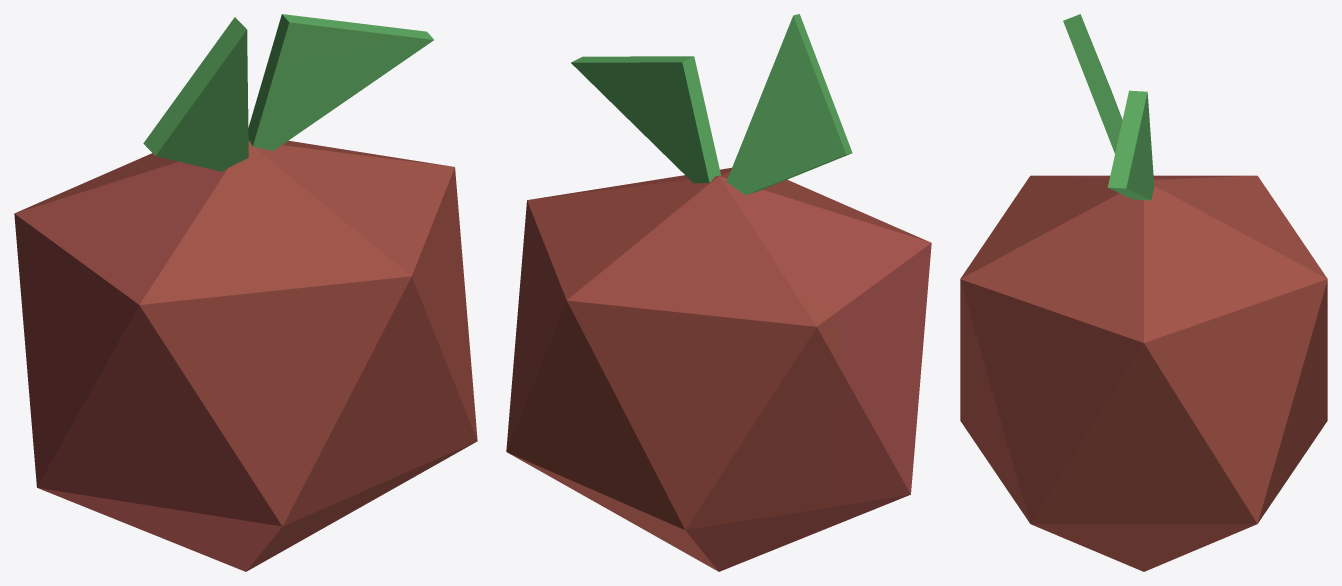
Rendered from Apple.glb.
The picture shows the model from 3 angles, left to right: view 1: azimuth 30°, elevation 25°; view 2: azimuth 150°, elevation 25°; view 3: azimuth 270°, elevation 25°; orthographic projection. The views are drawn at different scales.
Visible parts, largest first — view 1: Icosphere; view 2: Icosphere; view 3: Icosphere.
Part boxes in pixels (x1,y1,x2,y2): Icosphere: (14,14,477,571); Icosphere: (506,14,931,571); Icosphere: (960,14,1327,571).
Bounding box in the file's own units: 1.79 × 2.42 × 1.5.
1 material, 1 textured.
